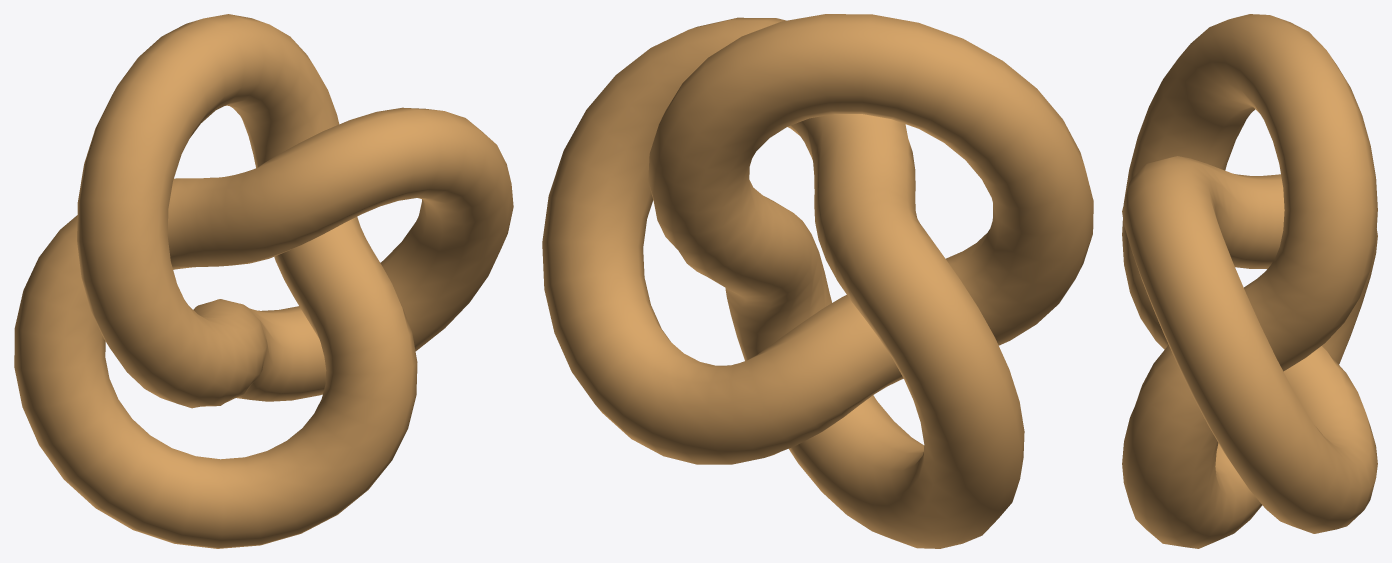
Rendered from sample-b.glb.
3 renders of one model, left to right at view 1: azimuth 30°, elevation 25°; view 2: azimuth 150°, elevation 25°; view 3: azimuth 270°, elevation 25°, orthographic. The views are drawn at different scales.
Size of the model in its own units: 2.6 by 2.71 by 1.26.
